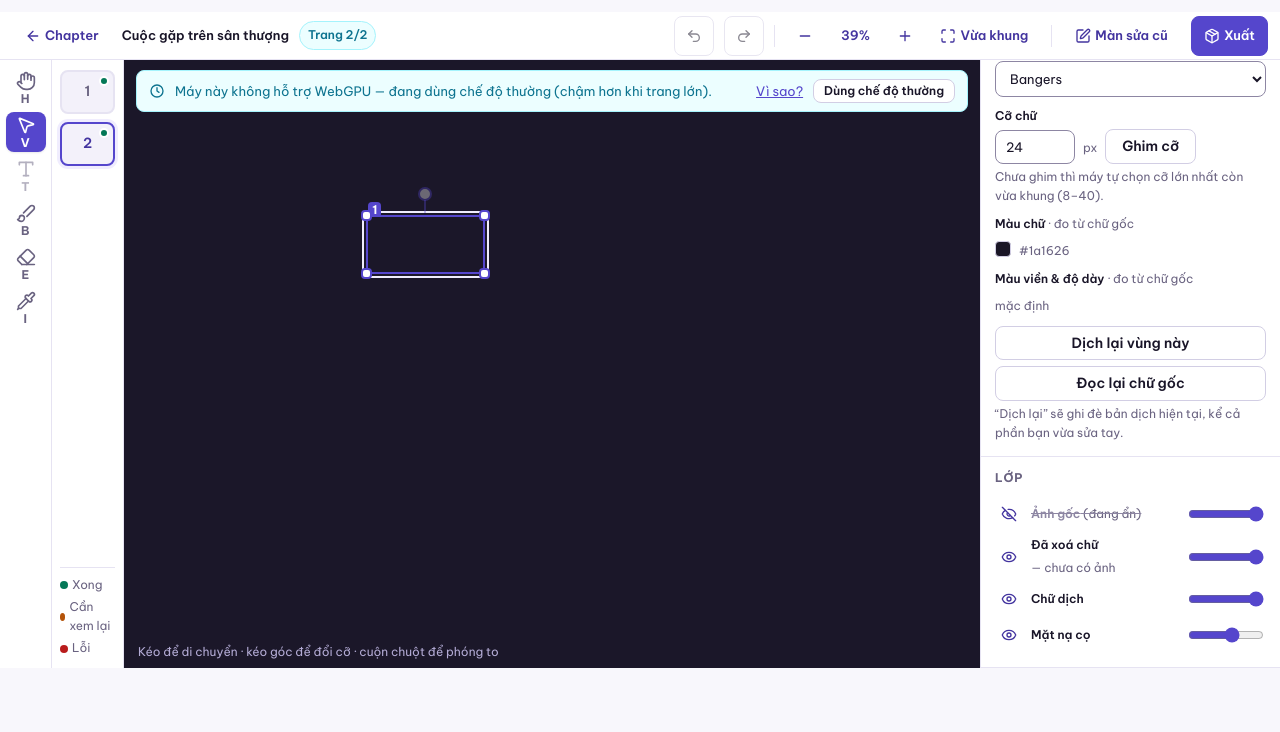
Test: lớp › Ảnh gốc mặc định ẩn; bật được; có ô độ mờ cho từng lớp
This screenshot has width=1280, height=732.
(page scrolled)
Expected: the button named "Về 100%" is shown, left=828, top=16, right=884, bottom=56
Expected: the button named "Phóng to" is enabled, left=886, top=16, right=926, bottom=56
Click the button named "Hiện lớp Ảnh gốc": click(1009, 514) left=995, top=500, right=1023, bottom=528
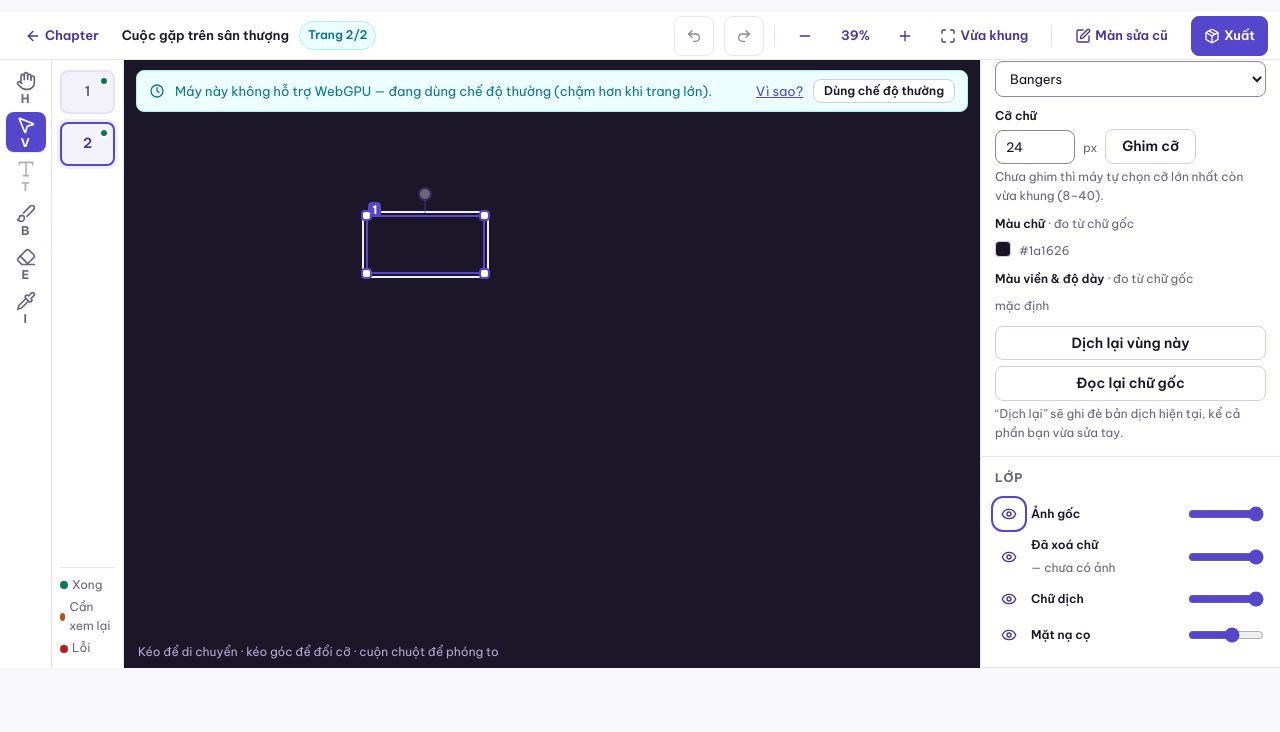
Expected: the button named "Ẩn lớp Ảnh gốc" is shown, left=995, top=500, right=1023, bottom=528
